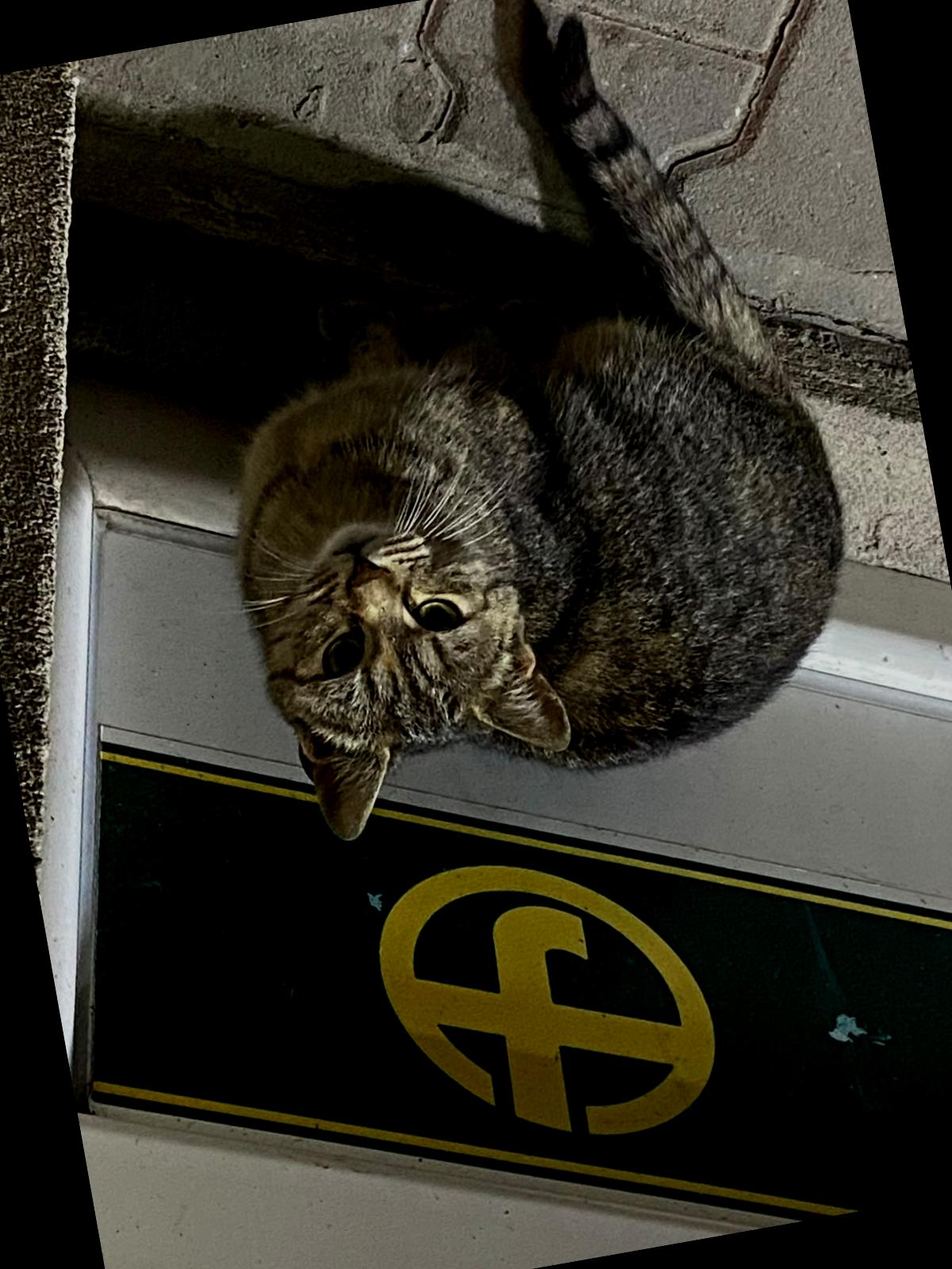macka: (152, 0, 891, 856)
